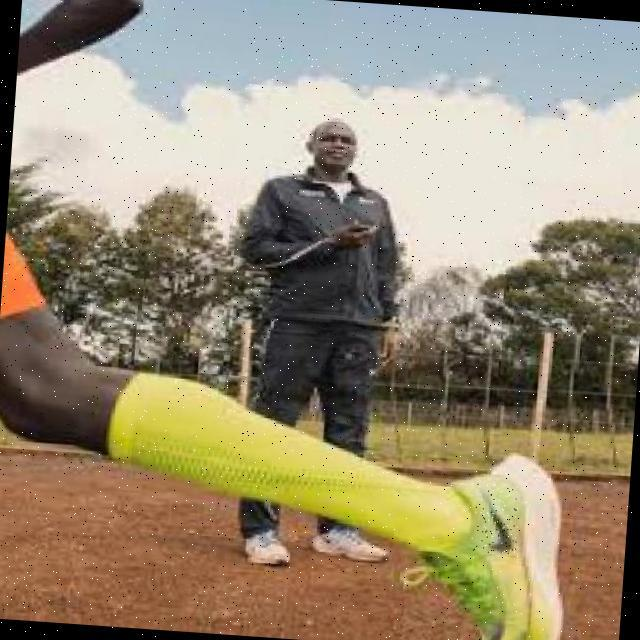Nike: (471, 483, 521, 554)
